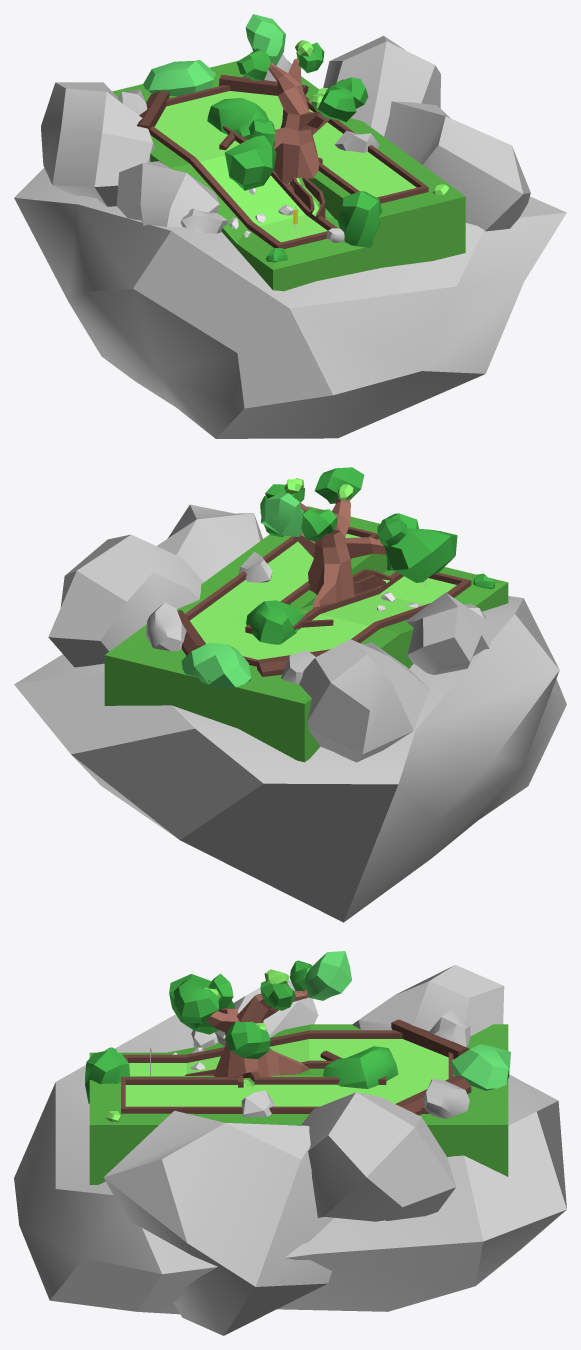
The model's file is BlenderCourse2.fbx.
The picture shows the model from 3 angles, top to bottom: view 1: azimuth 30°, elevation 25°; view 2: azimuth 150°, elevation 25°; view 3: azimuth 270°, elevation 25°; orthographic projection. The views are drawn at different scales.
Parts seen in each view (by area): view 1: rock.209, Cube.015, Cube.014, rock.231, rock.229, rock.227, Cube.016, rock.226, Cylinder.017, rock.224, rock.233, rock.213 (+8 smaller); view 2: rock.209, Cube.015, rock.227, rock.231, Cube.014, rock.226, rock.229, Cube.016, Cylinder.017, rock.224, rock.233, rock.215 (+9 smaller); view 3: rock.209, rock.229, rock.227, Cube.015, Cube.014, rock.231, Cube.016, Cylinder.017, rock.215, rock.233, rock.221, rock.226 (+11 smaller).
Boxes of the visible parts, x1=… form: rock.209: x1=14, y1=167, x2=566, y2=438; Cube.015: x1=112, y1=60, x2=465, y2=291; Cube.014: x1=154, y1=91, x2=416, y2=242; rock.231: x1=41, y1=82, x2=155, y2=206; rock.229: x1=384, y1=101, x2=530, y2=231; rock.227: x1=323, y1=35, x2=440, y2=136; Cube.016: x1=150, y1=85, x2=428, y2=248; rock.226: x1=116, y1=161, x2=219, y2=226; Cylinder.017: x1=268, y1=58, x2=330, y2=184; rock.224: x1=224, y1=135, x2=276, y2=190; rock.233: x1=143, y1=60, x2=215, y2=96; rock.213: x1=338, y1=191, x2=382, y2=247; rock.209: x1=14, y1=596, x2=566, y2=922; Cube.015: x1=104, y1=506, x2=508, y2=762; rock.227: x1=48, y1=534, x2=203, y2=667; rock.231: x1=299, y1=639, x2=429, y2=762; Cube.014: x1=190, y1=534, x2=456, y2=659; rock.226: x1=406, y1=592, x2=494, y2=674; rock.229: x1=157, y1=504, x2=262, y2=581; Cube.016: x1=185, y1=526, x2=471, y2=666; Cylinder.017: x1=294, y1=498, x2=386, y2=608; rock.224: x1=383, y1=528, x2=457, y2=582; rock.233: x1=181, y1=642, x2=251, y2=688; rock.215: x1=246, y1=600, x2=304, y2=644; rock.209: x1=14, y1=1014, x2=566, y2=1314; rock.229: x1=103, y1=1110, x2=334, y2=1335; rock.227: x1=301, y1=1092, x2=455, y2=1221; Cube.015: x1=89, y1=1024, x2=508, y2=1184; Cube.014: x1=125, y1=1039, x2=448, y2=1106; rock.231: x1=352, y1=965, x2=504, y2=1036; Cube.016: x1=121, y1=1030, x2=453, y2=1113; Cylinder.017: x1=206, y1=990, x2=309, y2=1078; rock.215: x1=323, y1=1046, x2=398, y2=1088; rock.233: x1=451, y1=1044, x2=510, y2=1090; rock.221: x1=305, y1=951, x2=351, y2=1000; rock.226: x1=215, y1=980, x2=318, y2=1045.
Size of the model in its own units: 1460 by 1142 by 1534.
